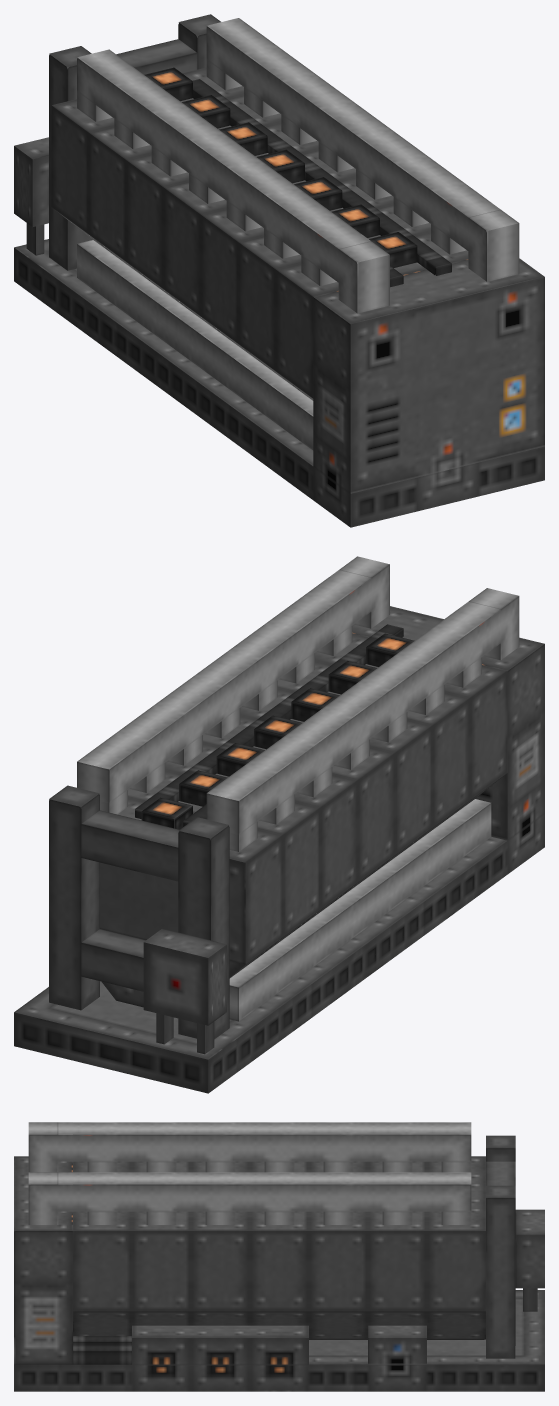
The model's file is electrolytic_crucible_battery.obj.
The picture shows the model from 3 angles, top to bottom: view 1: azimuth 30°, elevation 25°; view 2: azimuth 150°, elevation 25°; view 3: azimuth 270°, elevation 25°; orthographic projection. The views are drawn at different scales.
Parts seen in each view (by area): view 1: cube; view 2: cube; view 3: cube.
Boxes of the visible parts, left/top/right/bottom form: cube: left=14, top=14, right=544, bottom=527; cube: left=14, top=556, right=544, bottom=1093; cube: left=14, top=1122, right=544, bottom=1391.
Size of the model in its own units: 3 by 3.75 by 9.
